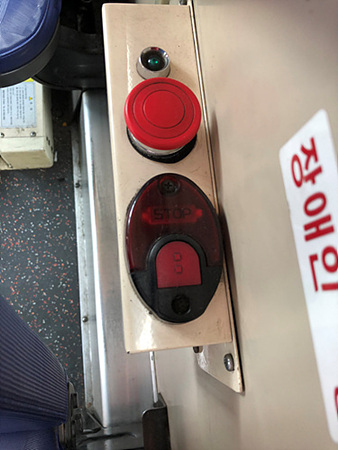bell: (125, 172, 223, 323)
